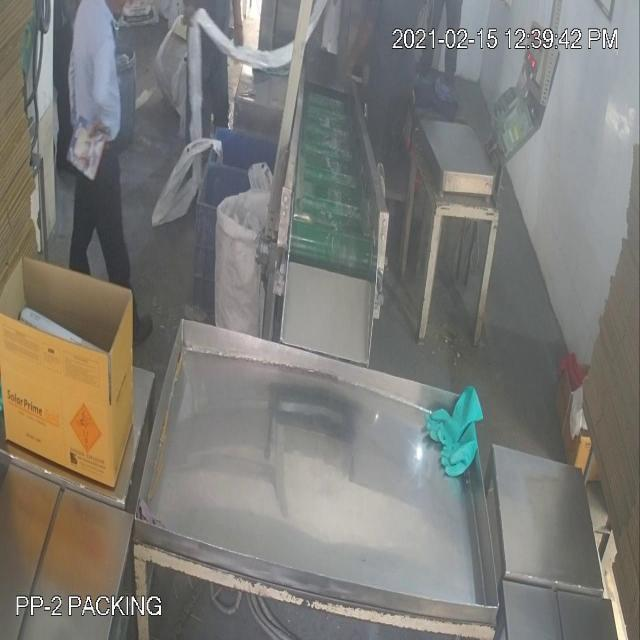No_Gloves: (32, 58, 456, 432)
